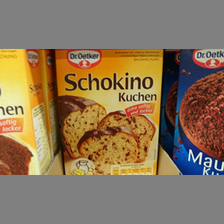cake: (54, 50, 162, 177), (172, 50, 223, 176), (1, 49, 48, 174)
